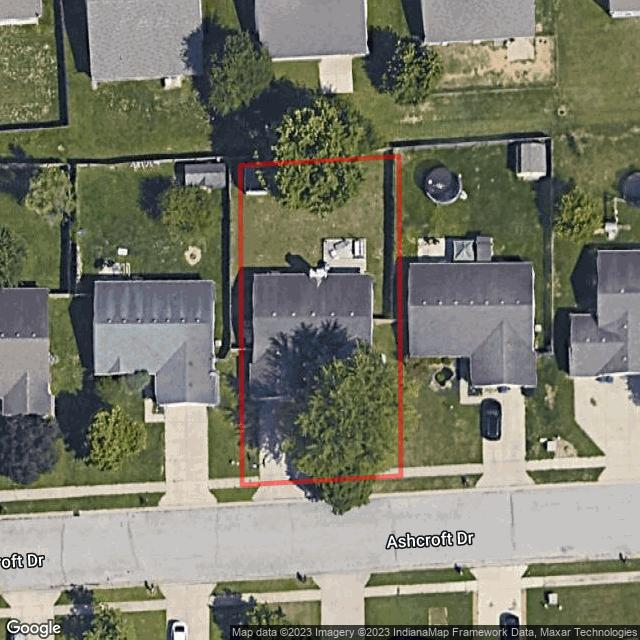Driveway: (259, 402, 289, 480)
Extra Driveway: (249, 485, 311, 501)
Extra Lawn: (297, 480, 403, 496), (241, 487, 259, 502)
House: (250, 273, 374, 401)
Other: (311, 239, 366, 273), (244, 168, 269, 196)
Sidewalk: (289, 467, 398, 478), (246, 474, 261, 481)
